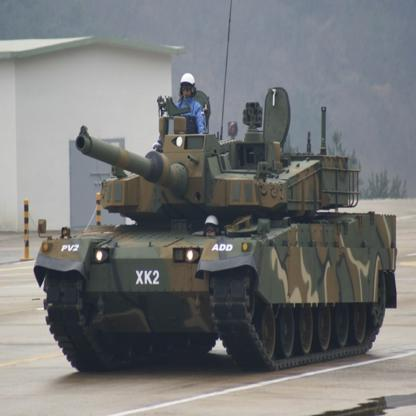Tank: (33, 79, 400, 369)
